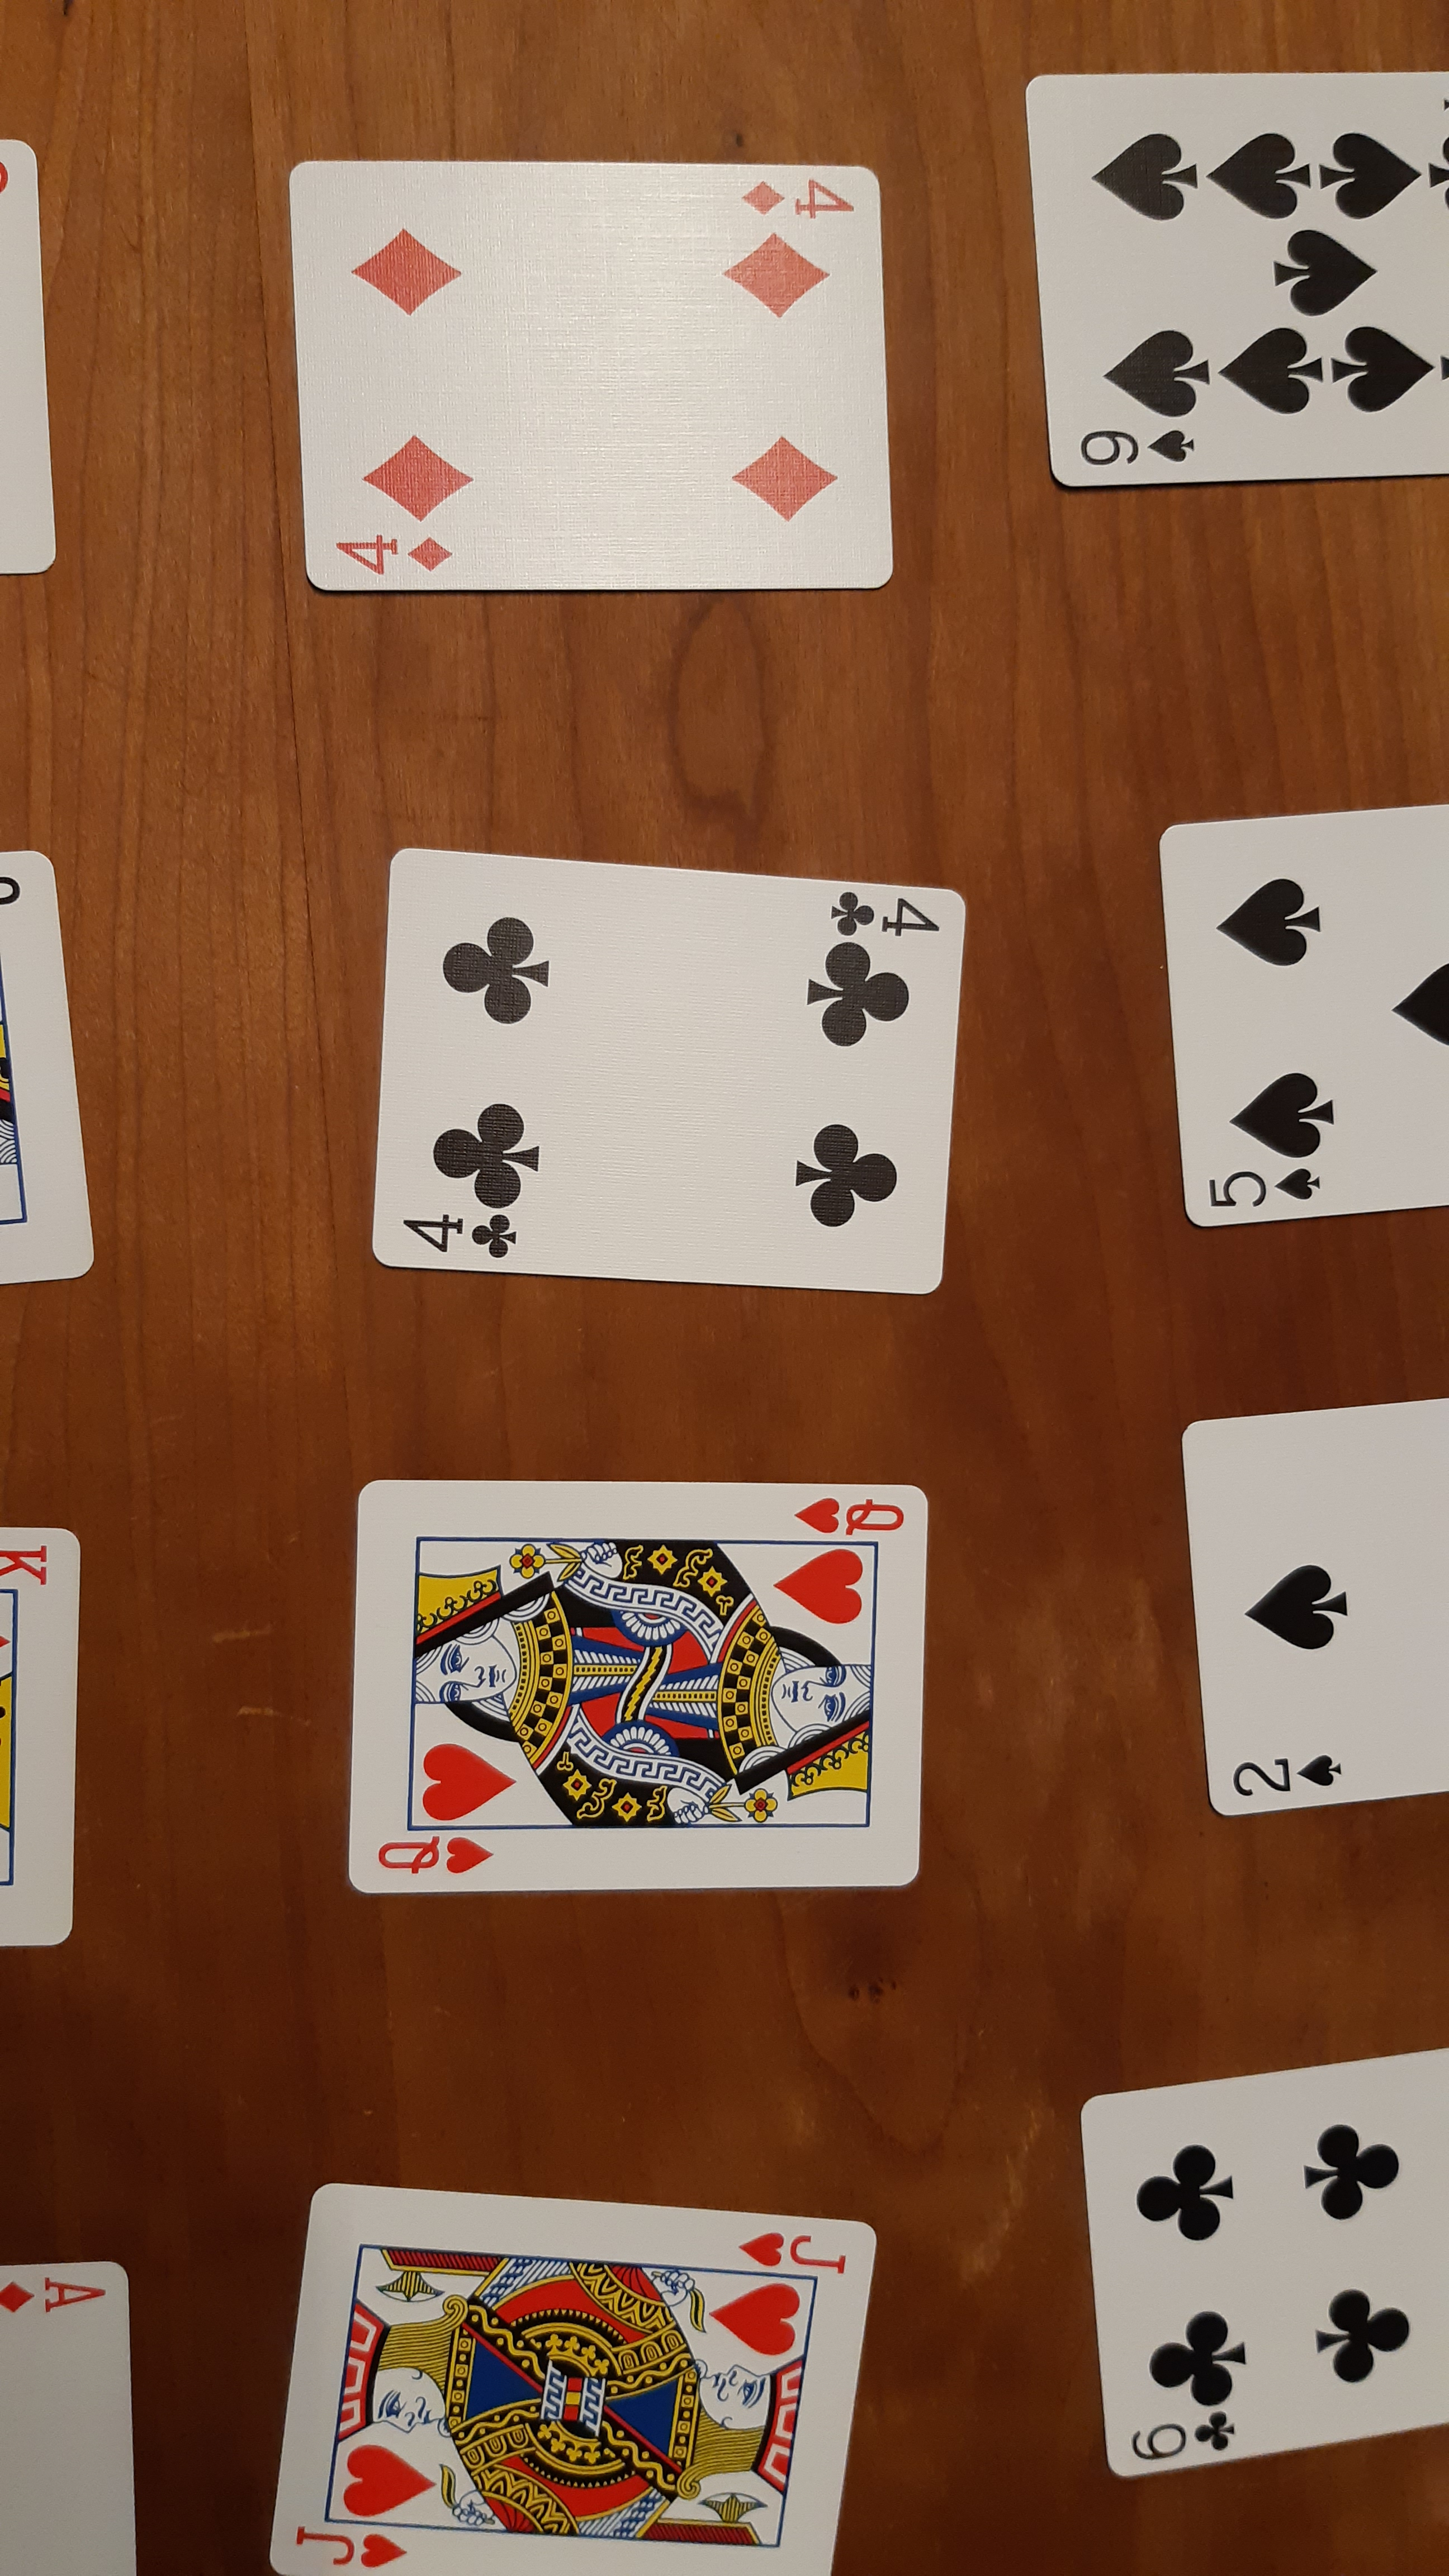Black_Club_4: (391, 1198, 522, 1272), (821, 885, 941, 945)
Black_Club_6: (1108, 2107, 1433, 2459)
Black_Spade_2: (1207, 1741, 1353, 1817)
Black_Spade_5: (1194, 1148, 1327, 1224)
Black_Spade_9: (1051, 94, 1447, 472)
Red_Diamond_4: (326, 525, 462, 582), (731, 173, 862, 230)
Red_Heart_Jack: (734, 2220, 858, 2281), (281, 2516, 409, 2572)
Red_Heart_Queen: (368, 1824, 495, 1888), (791, 1484, 915, 1541)
